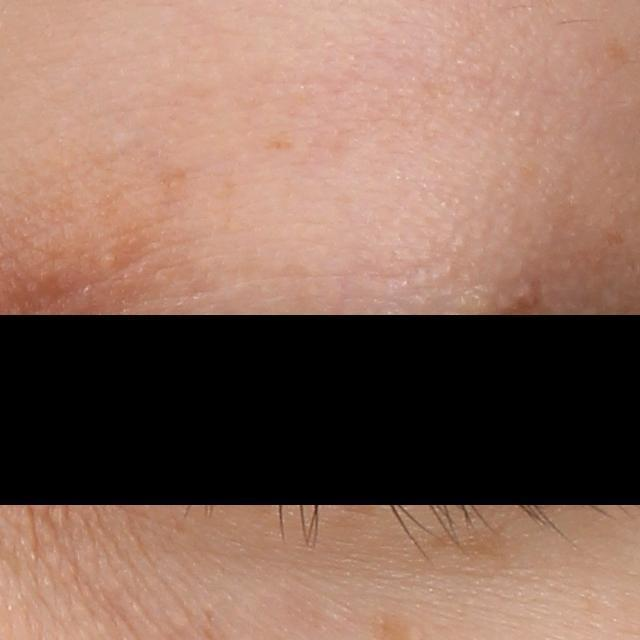melasma: (486, 282, 545, 364), (424, 525, 510, 578)
